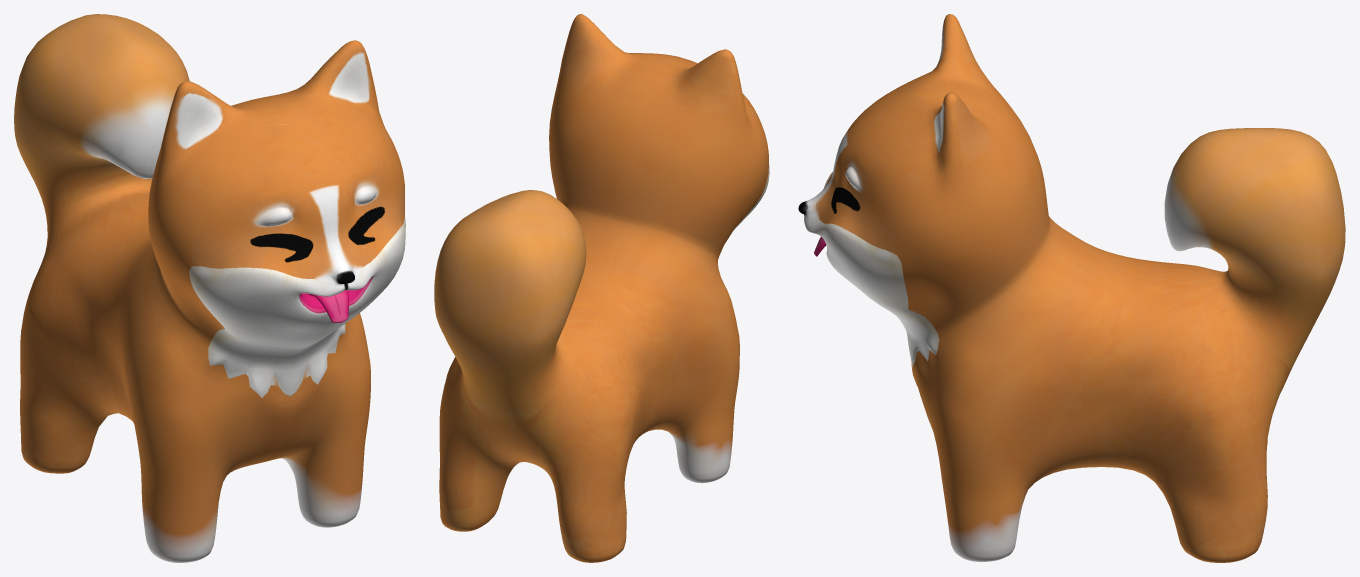
The model's file is uploads_files_3741805_Shiba.fbx.
The picture shows the model from 3 angles, left to right: view 1: azimuth 30°, elevation 25°; view 2: azimuth 150°, elevation 25°; view 3: azimuth 270°, elevation 25°; orthographic projection. The views are drawn at different scales.
Parts seen in each view (by area): view 1: Shiba inu; view 2: Shiba inu; view 3: Shiba inu.
Boxes of the visible parts, box(x1,y1,x2,y2) form: Shiba inu: box(14, 14, 405, 562); Shiba inu: box(434, 14, 769, 562); Shiba inu: box(798, 14, 1345, 562).
Size of what is drawn, in the model's own units: 12.79 by 25.21 by 26.84.
